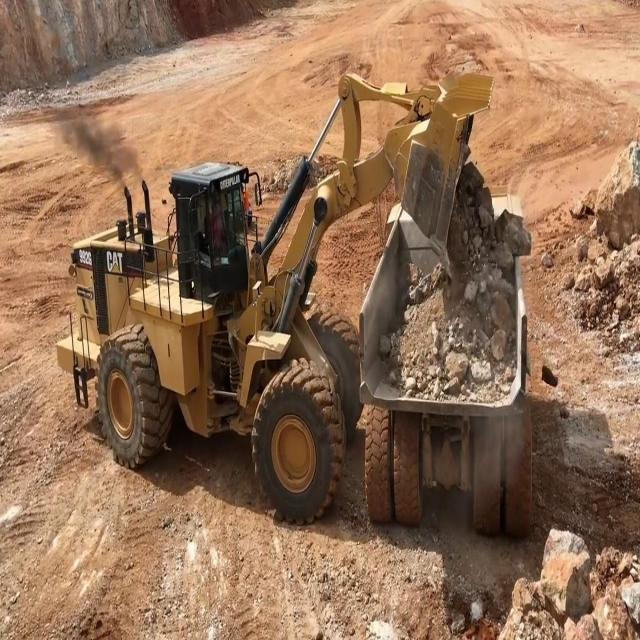Dump Truck: (353, 183, 531, 546)
Loader: (51, 62, 500, 536)
